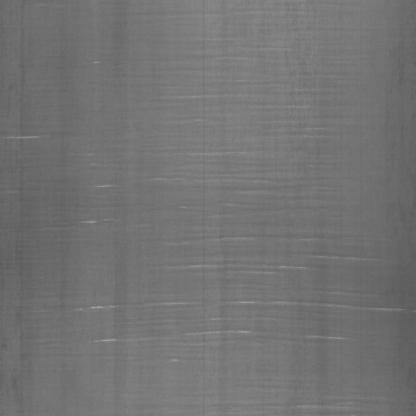waist_folding: (96, 21, 384, 370)
